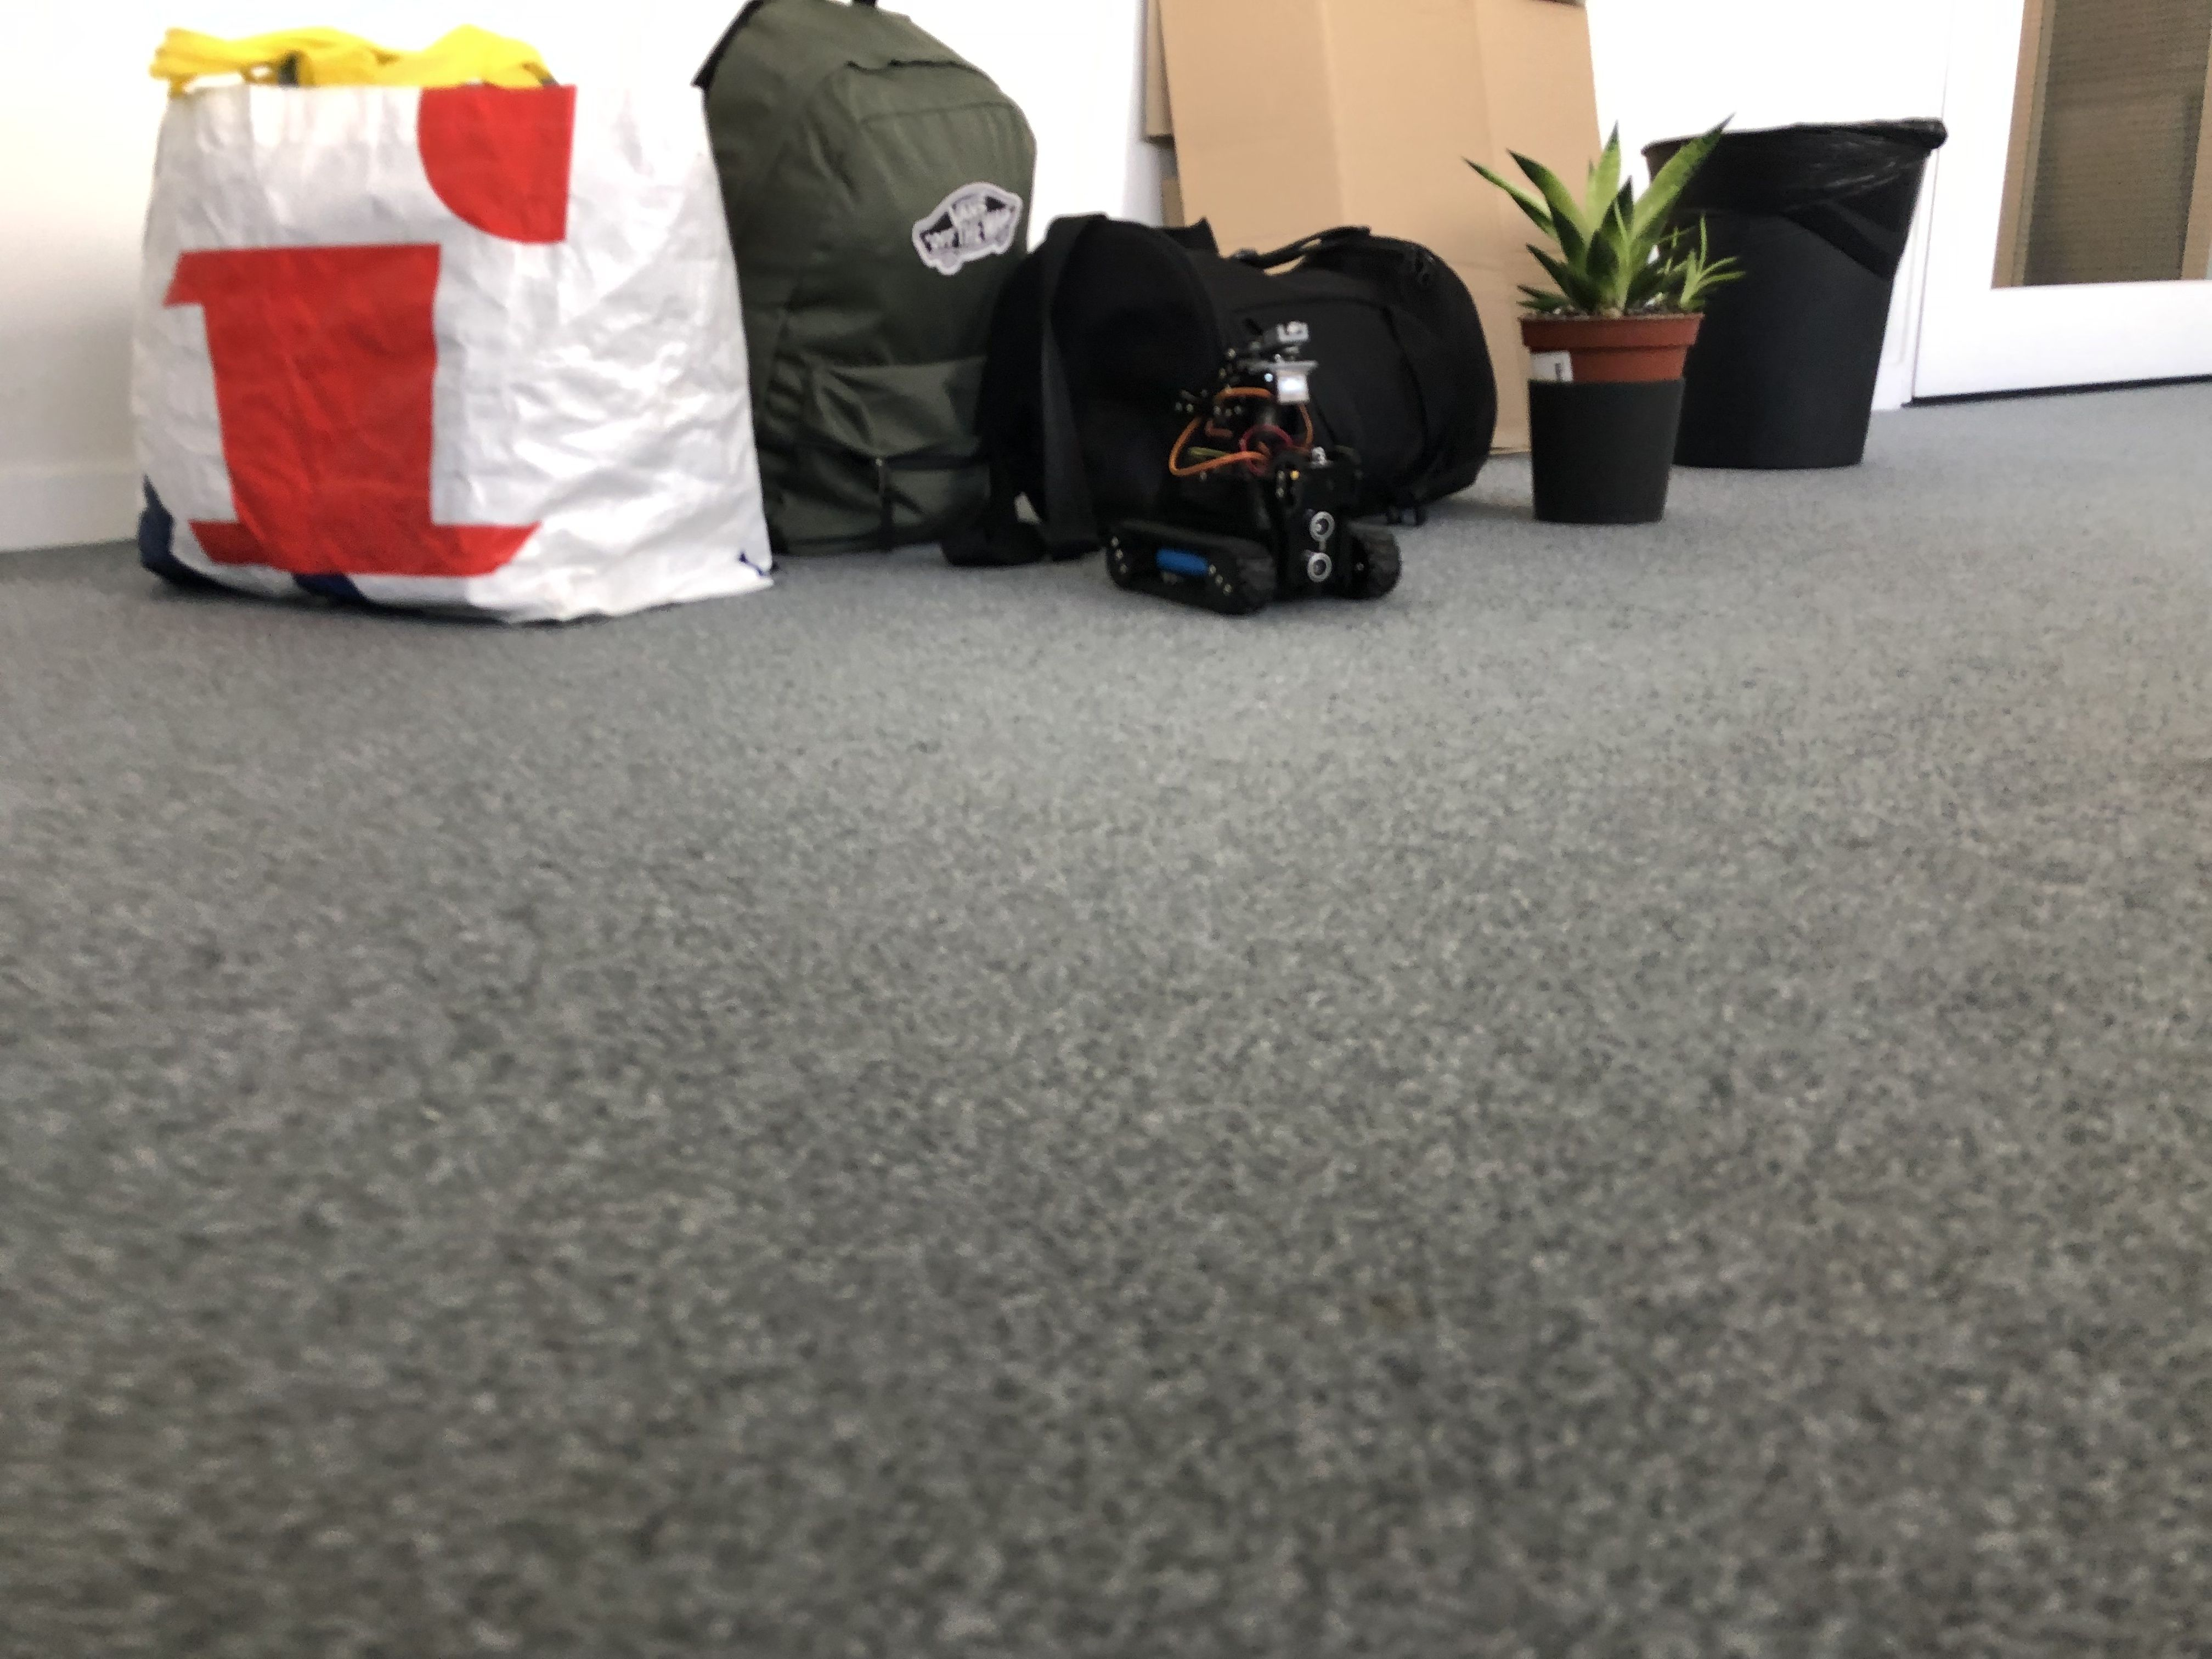rasptank: (1103, 307, 1411, 620)
